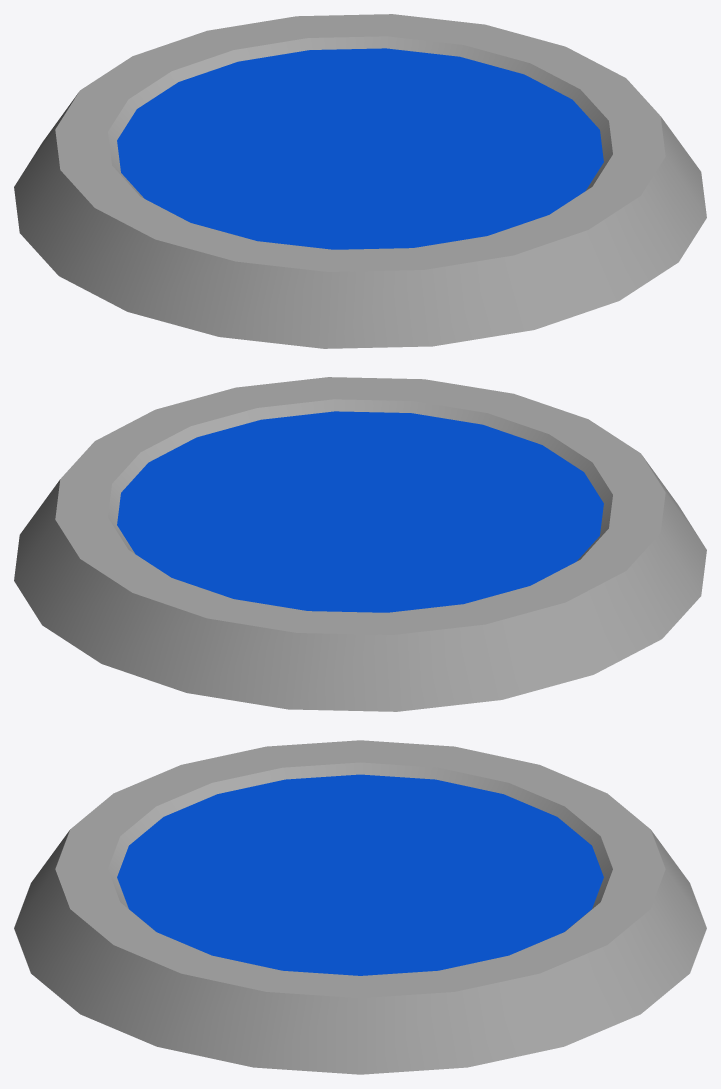
Rendered from GoalBase.fbx.
3 views of the same model, one above another, from view 1: azimuth 30°, elevation 25°; view 2: azimuth 150°, elevation 25°; view 3: azimuth 270°, elevation 25° (orthographic).
Parts seen in each view (by area): view 1: GoalObj; view 2: GoalObj; view 3: GoalObj.
Boxes of the visible parts, box(x1,y1,x2,y2) form: GoalObj: box(14, 14, 706, 348); GoalObj: box(14, 377, 706, 711); GoalObj: box(14, 740, 706, 1074).
Size of the model in its own units: 2 by 0.1881 by 2.
